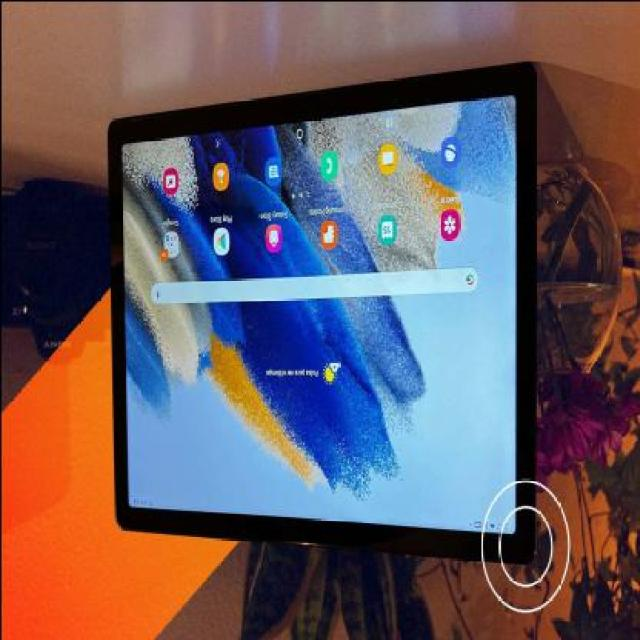tablet: (77, 87, 562, 569)
